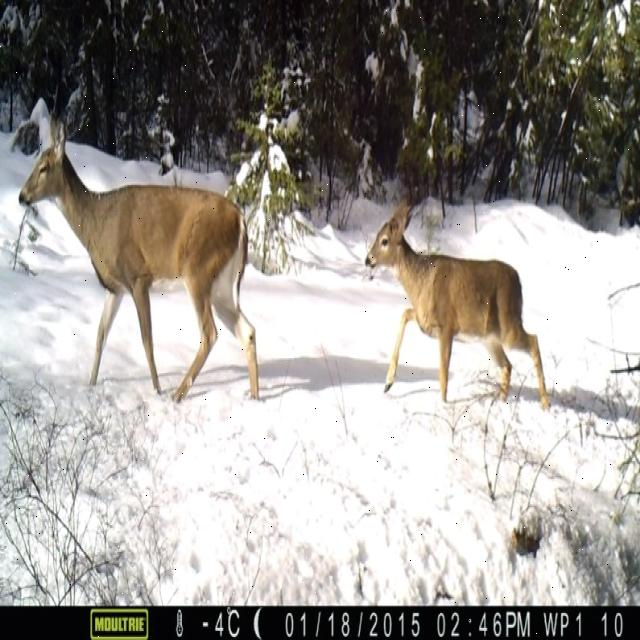deer: (8, 101, 98, 238), (349, 191, 441, 295)
